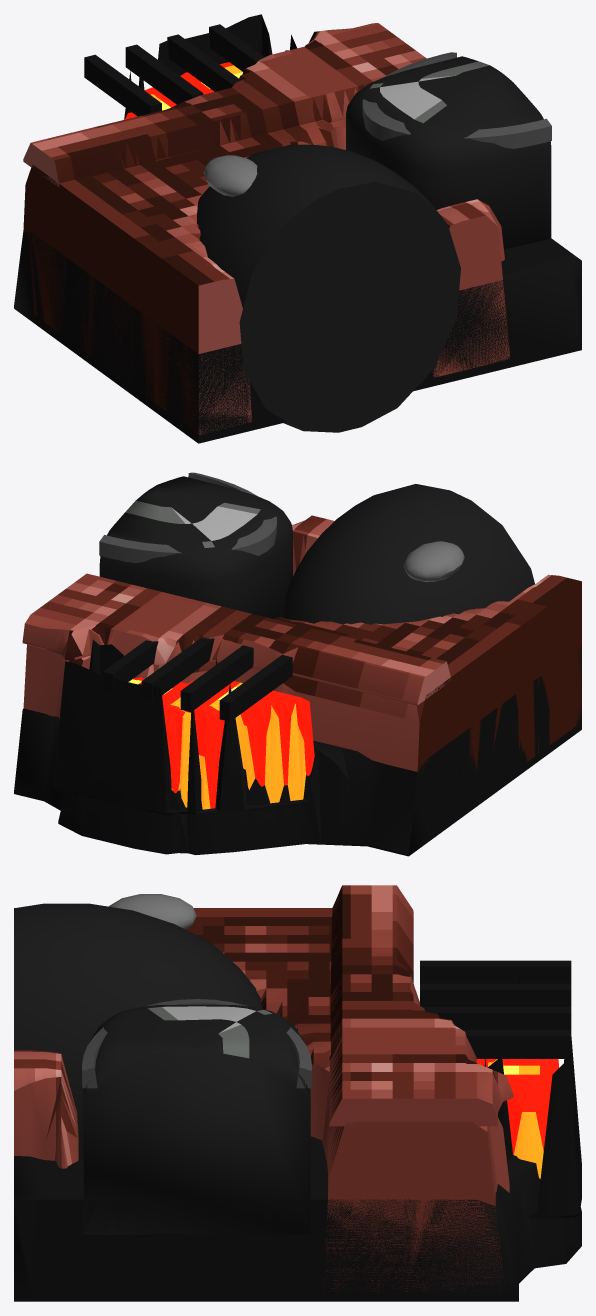
Rendered from deli_boss_5.glb.
3 views of the same model, one above another, from view 1: azimuth 30°, elevation 25°; view 2: azimuth 150°, elevation 25°; view 3: azimuth 270°, elevation 25° (orthographic). The views are drawn at different scales.
Visible parts, largest first — view 1: deli_boss_5_sphere, deli_boss_5_frame, deli_boss_5_core, deli_boss_5_canopy, deli_boss_5_plate, deli_boss_5_canopy_rim, deli_boss_5_vent_housing, deli_boss_5_slat56.0, deli_boss_5_slat58.6, deli_boss_5_slat61.2, deli_boss_5_sphere_glint, deli_boss_5_slat63.8 (+1 smaller); view 2: deli_boss_5_frame, deli_boss_5_core, deli_boss_5_sphere, deli_boss_5_plate, deli_boss_5_vent_housing, deli_boss_5_canopy, deli_boss_5_vent_fire, deli_boss_5_canopy_rim, deli_boss_5_slat56.0, deli_boss_5_slat58.6, deli_boss_5_slat61.2, deli_boss_5_sphere_glint (+1 smaller); view 3: deli_boss_5_core, deli_boss_5_canopy, deli_boss_5_frame, deli_boss_5_plate, deli_boss_5_sphere, deli_boss_5_vent_housing, deli_boss_5_vent_fire, deli_boss_5_slat58.6, deli_boss_5_slat56.0, deli_boss_5_slat61.2, deli_boss_5_slat63.8, deli_boss_5_canopy_rim (+1 smaller).
Part boxes in pixels (box(x1,y1,x2,y2)): deli_boss_5_sphere: box(196, 144, 460, 432); deli_boss_5_frame: box(23, 119, 509, 435); deli_boss_5_core: box(14, 232, 581, 443); deli_boss_5_canopy: box(346, 56, 551, 249); deli_boss_5_plate: box(23, 23, 426, 187); deli_boss_5_canopy_rim: box(362, 52, 551, 148); deli_boss_5_vent_housing: box(124, 14, 296, 118); deli_boss_5_slat56.0: box(84, 54, 161, 116); deli_boss_5_slat58.6: box(125, 44, 203, 104); deli_boss_5_slat61.2: box(167, 34, 240, 91); deli_boss_5_sphere_glint: box(203, 155, 257, 196); deli_boss_5_slat63.8: box(209, 24, 264, 71); deli_boss_5_frame: box(23, 515, 581, 842); deli_boss_5_core: box(14, 646, 581, 856); deli_boss_5_sphere: box(280, 484, 534, 624); deli_boss_5_plate: box(22, 573, 450, 705); deli_boss_5_vent_housing: box(53, 639, 309, 815); deli_boss_5_canopy: box(99, 476, 292, 618); deli_boss_5_vent_fire: box(128, 677, 314, 809); deli_boss_5_canopy_rim: box(99, 472, 276, 563); deli_boss_5_slat56.0: box(219, 655, 292, 721); deli_boss_5_slat58.6: box(180, 645, 253, 712); deli_boss_5_slat61.2: box(141, 637, 214, 702); deli_boss_5_sphere_glint: box(403, 541, 464, 582); deli_boss_5_core: box(14, 1134, 581, 1301); deli_boss_5_canopy: box(83, 1004, 310, 1234); deli_boss_5_frame: box(14, 908, 509, 1291); deli_boss_5_plate: box(329, 885, 513, 1126); deli_boss_5_sphere: box(14, 903, 262, 1133); deli_boss_5_vent_housing: box(484, 975, 581, 1218); deli_boss_5_vent_fire: box(476, 1059, 559, 1178); deli_boss_5_slat58.6: box(420, 983, 571, 1006); deli_boss_5_slat56.0: box(420, 960, 571, 983); deli_boss_5_slat61.2: box(422, 1007, 571, 1029); deli_boss_5_slat63.8: box(462, 1030, 571, 1058); deli_boss_5_canopy_rim: box(82, 999, 311, 1088).
Bounding box in the file's own units: 24 × 15.03 × 27.
